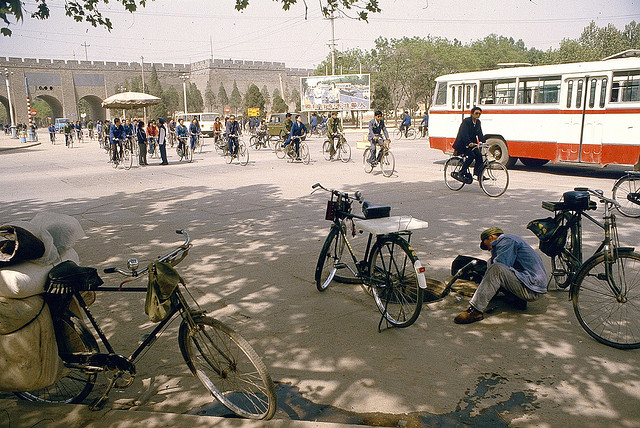Bicycle: (50, 260, 294, 417), (308, 178, 430, 340), (448, 133, 511, 201)
Bus: (429, 65, 640, 172)
Person: (471, 232, 542, 326)
